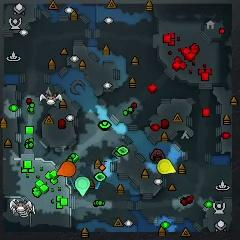p2: (75, 177, 91, 196)
p4: (156, 159, 177, 173)
p5: (58, 161, 77, 178)
